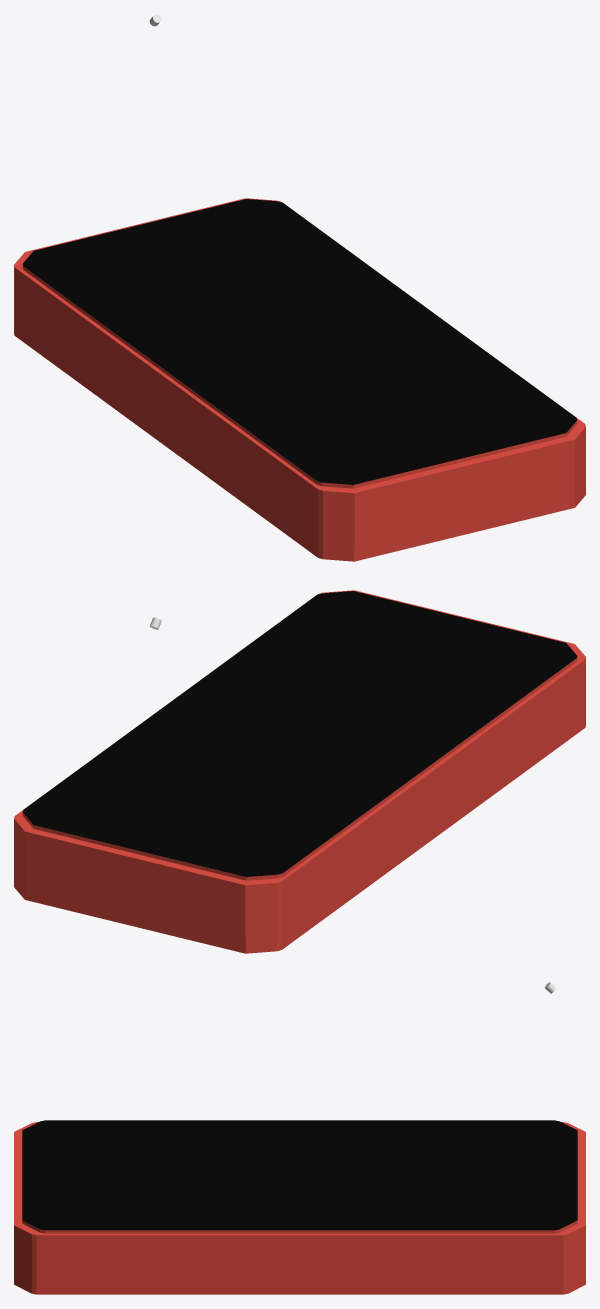
3 views of the same model, one above another, from view 1: azimuth 30°, elevation 25°; view 2: azimuth 150°, elevation 25°; view 3: azimuth 270°, elevation 25° (orthographic). The views are drawn at different scales.
Visible parts, largest first — view 1: Cube; view 2: Cube; view 3: Cube.
Boxes of the visible parts, left/top/right/bottom form: Cube: left=14, top=198, right=585, bottom=561; Cube: left=14, top=590, right=585, bottom=953; Cube: left=14, top=1120, right=585, bottom=1294.
Bounding box in the file's own units: 44.53 × 48.85 × 95.02.
